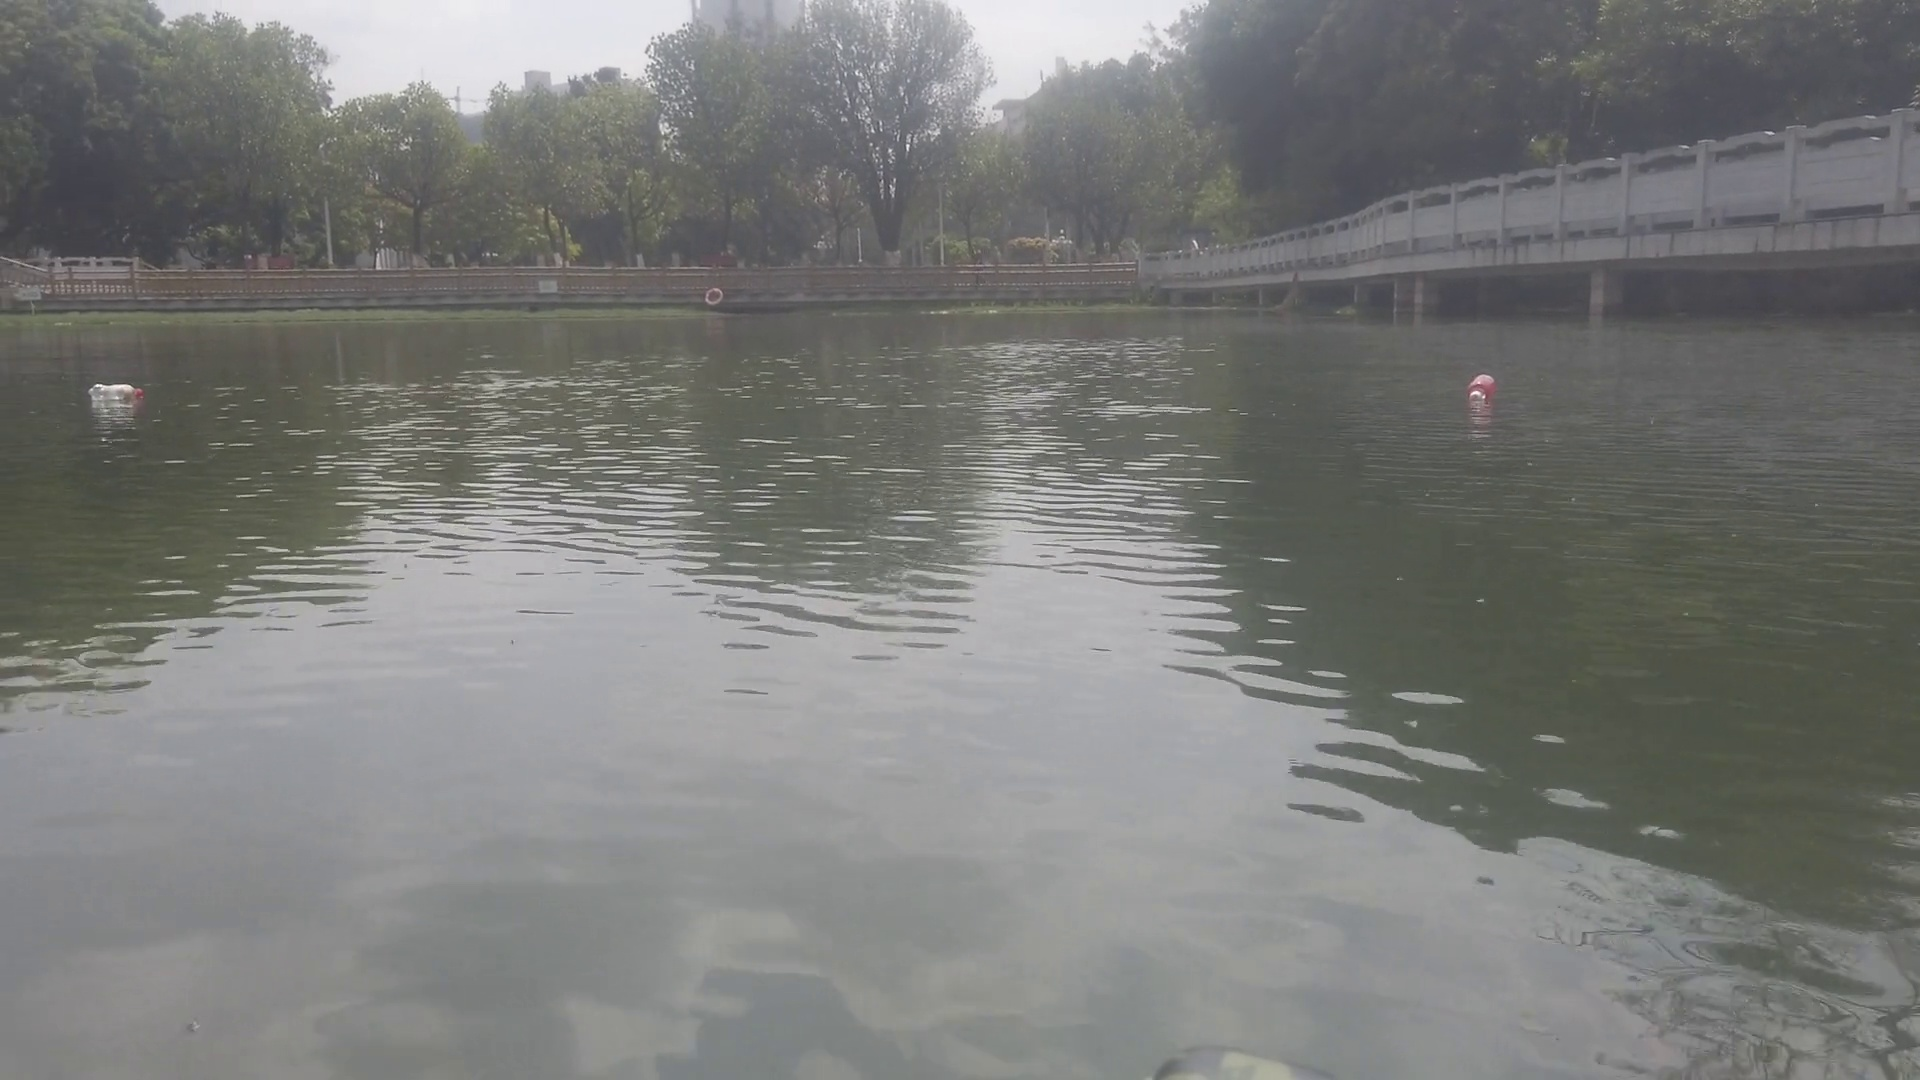bottle: (84, 380, 146, 404), (1464, 371, 1495, 406)
